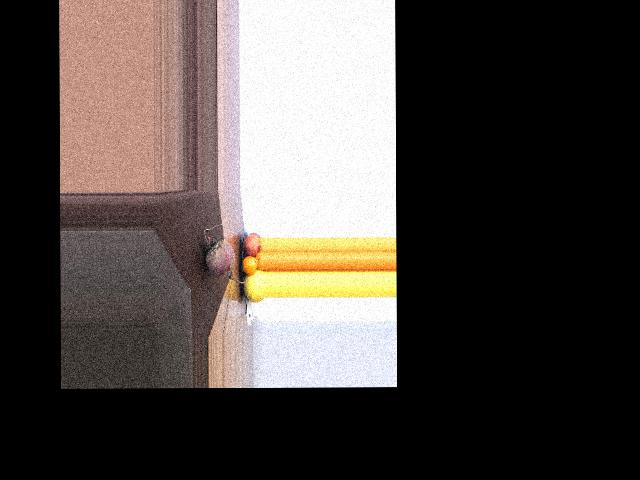beet: (203, 224, 248, 284)
